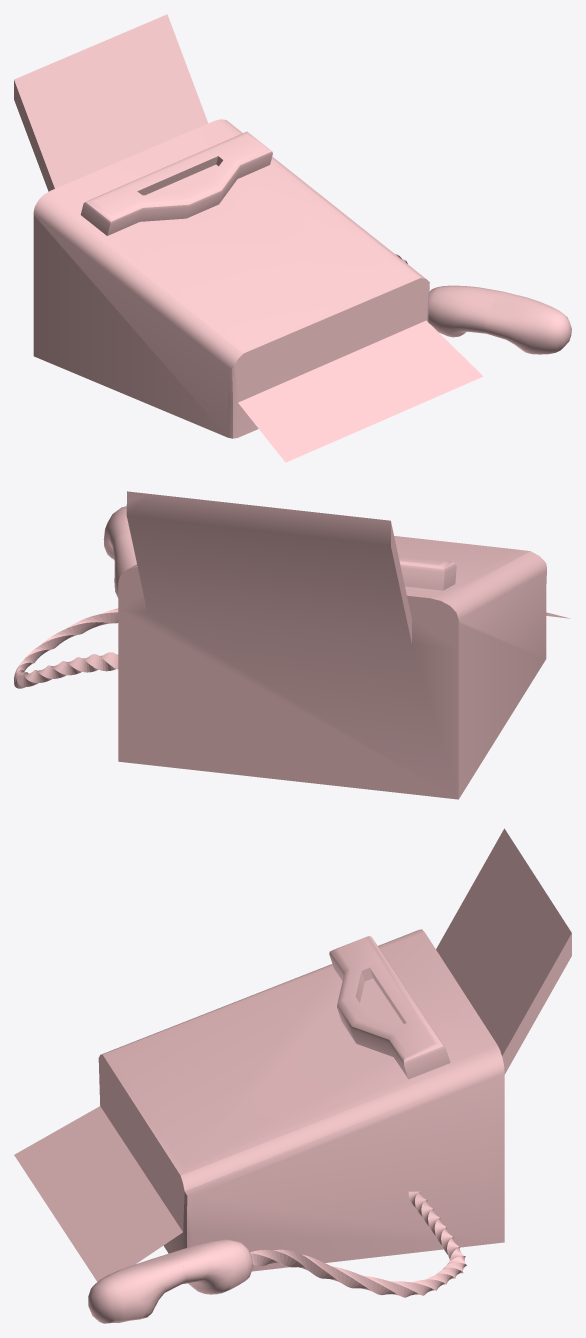
Rendered from deskprinterPRINT.fbx.
3 views of the same model, one above another, from view 1: azimuth 30°, elevation 25°; view 2: azimuth 150°, elevation 25°; view 3: azimuth 270°, elevation 25° (orthographic). The views are drawn at different scales.
Visible parts, largest first — view 1: Cube; view 2: Cube; view 3: Cube.
Boxes of the visible parts, <box> form: Cube: <box>14,14,571,462</box>; Cube: <box>14,491,569,799</box>; Cube: <box>14,828,571,1323</box>.
Size of the model in its own units: 334 by 193 by 337.
